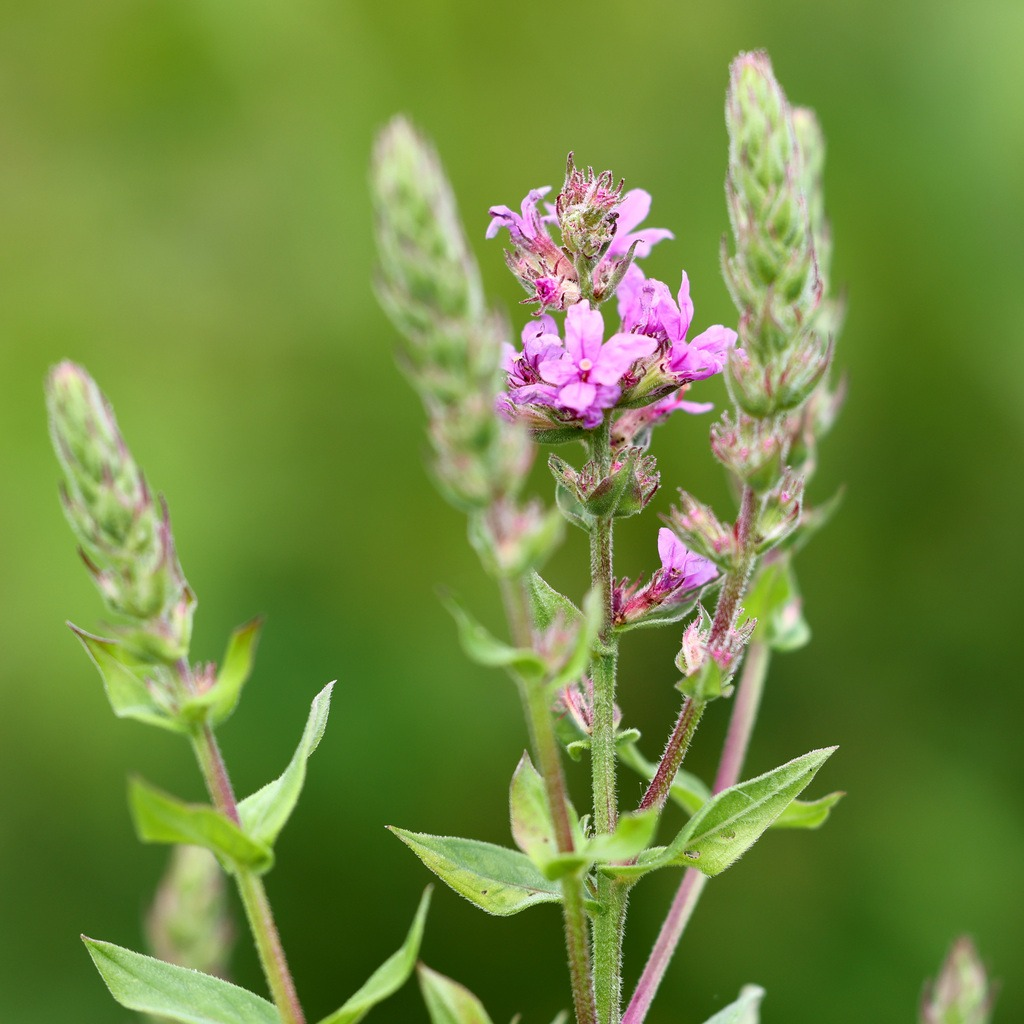purple loosestrife: (482, 148, 737, 520)
